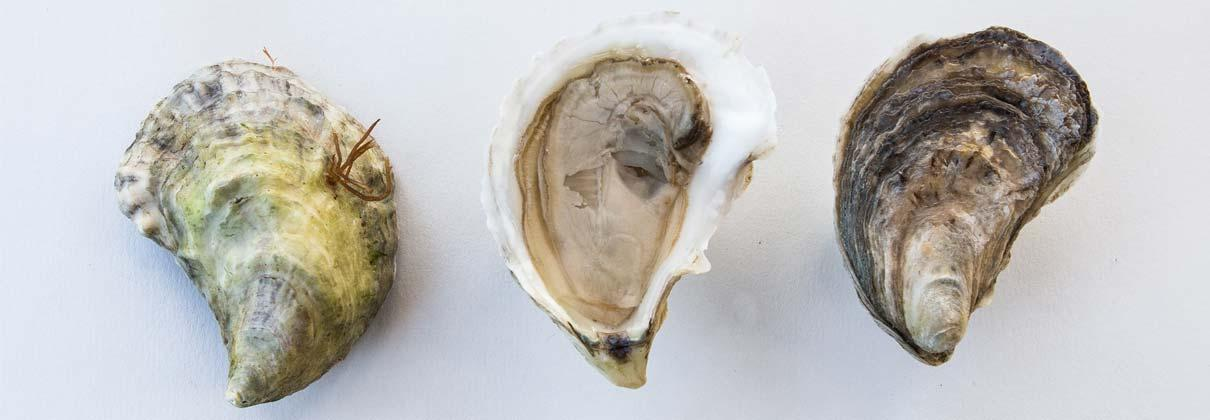Oyster: (472, 8, 773, 387), (114, 61, 396, 394), (832, 22, 1092, 358)
